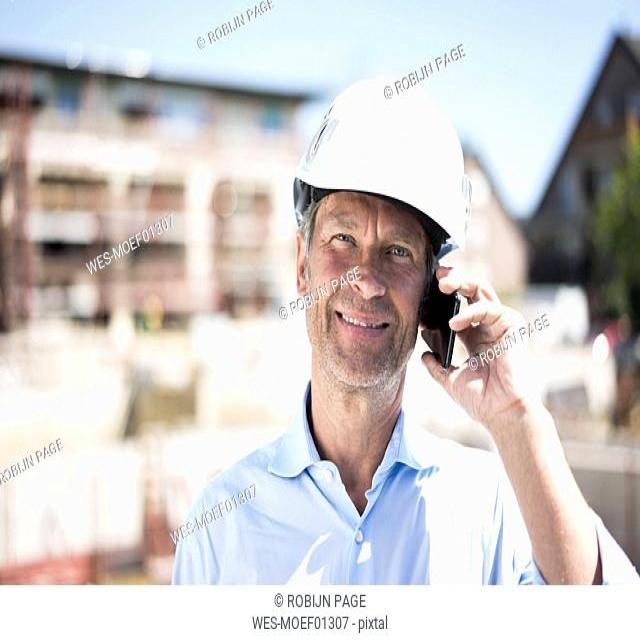helmet: (282, 75, 474, 255)
no-goggles: (294, 181, 455, 297)
